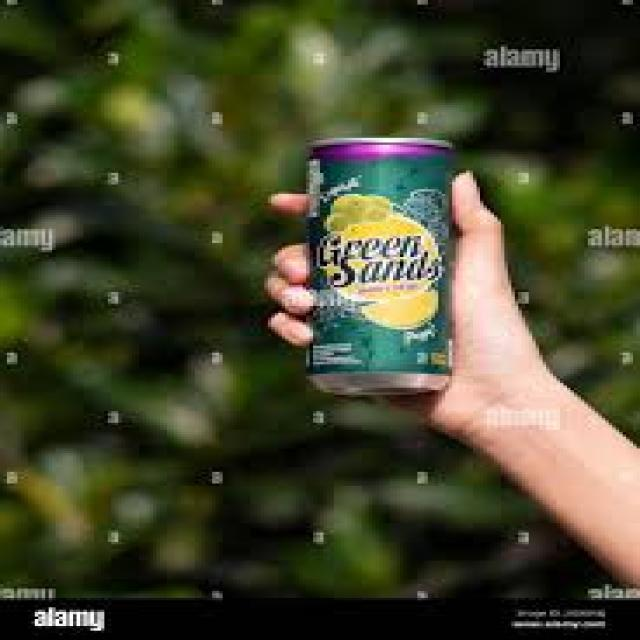Cans: (285, 124, 477, 402)
